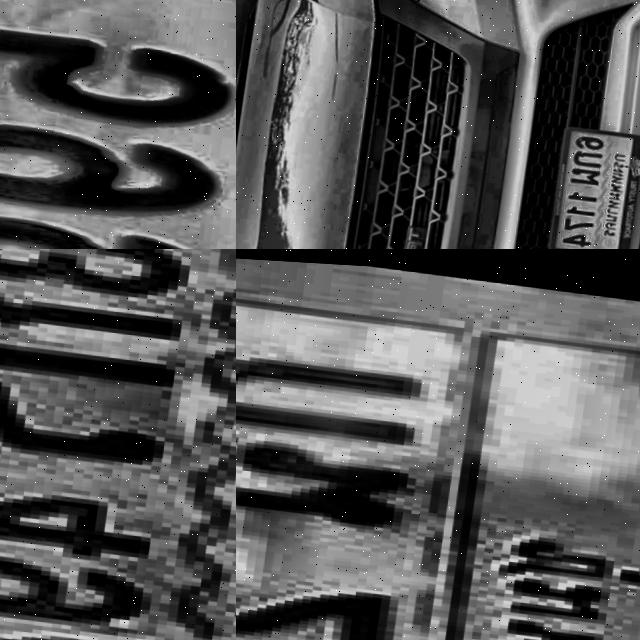license-plate: (236, 249, 640, 640), (0, 249, 236, 640), (0, 0, 236, 249), (549, 116, 640, 249)
